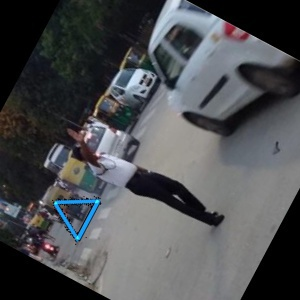triangle: (51, 196, 102, 244)
